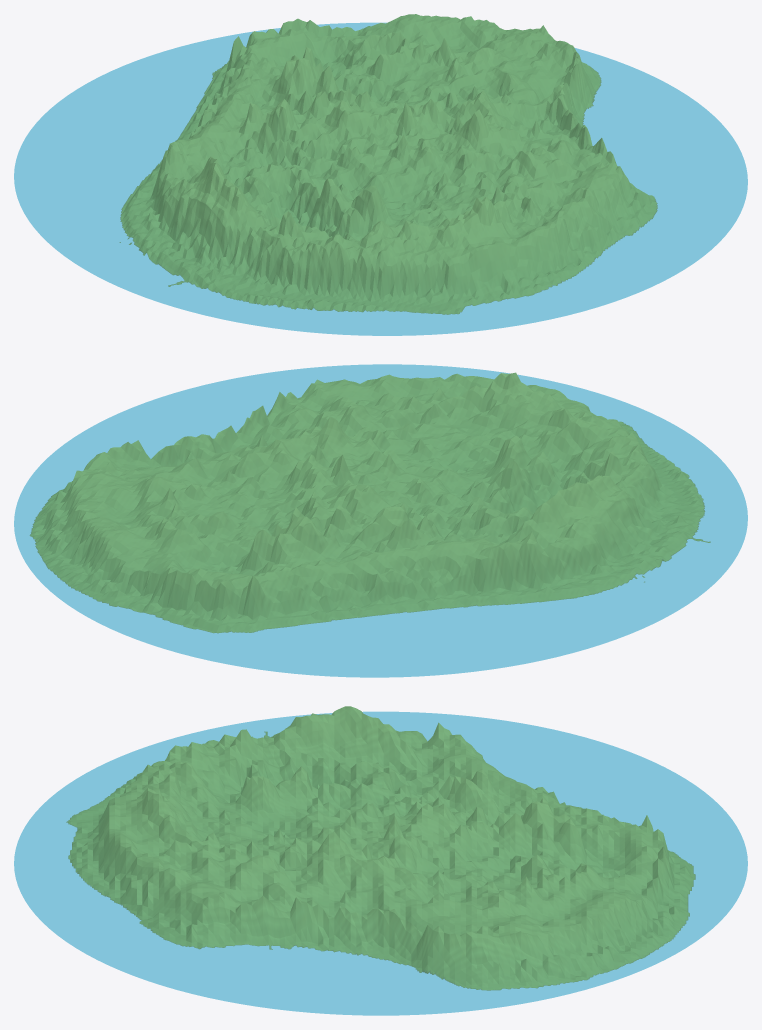
Rendered from NRU-terrain.glb.
The picture shows the model from 3 angles, top to bottom: view 1: azimuth 30°, elevation 25°; view 2: azimuth 150°, elevation 25°; view 3: azimuth 270°, elevation 25°; orthographic projection.
Parts seen in each view (by area): view 1: Relevo com hidrografia; view 2: Relevo com hidrografia; view 3: Relevo com hidrografia.
Boxes of the visible parts, <box> form: Relevo com hidrografia: <box>14,14,747,335</box>; Relevo com hidrografia: <box>14,364,747,677</box>; Relevo com hidrografia: <box>14,706,747,1015</box>.
Bounding box in the file's own units: 1.84 × 0.1995 × 1.88.
Materials: 2 (1 with a texture image).
